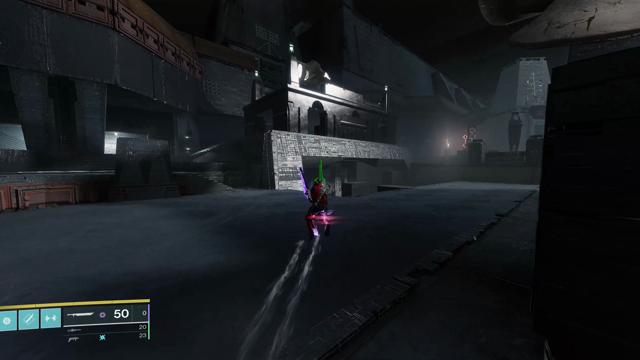stop: (534, 108, 545, 118)
